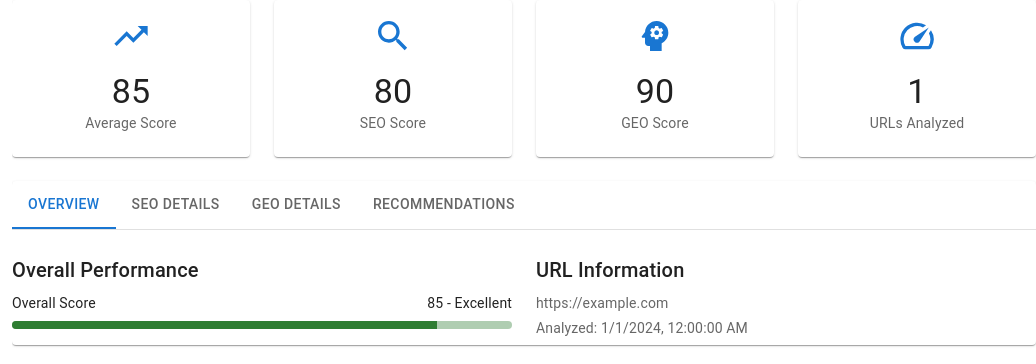
ResultsDashboard Component › displays recommendations with correct information
Note: Click Recommendations tab
Click the tab "Recommendations": point(444, 205) x1=357 y1=181 x2=531 y2=229
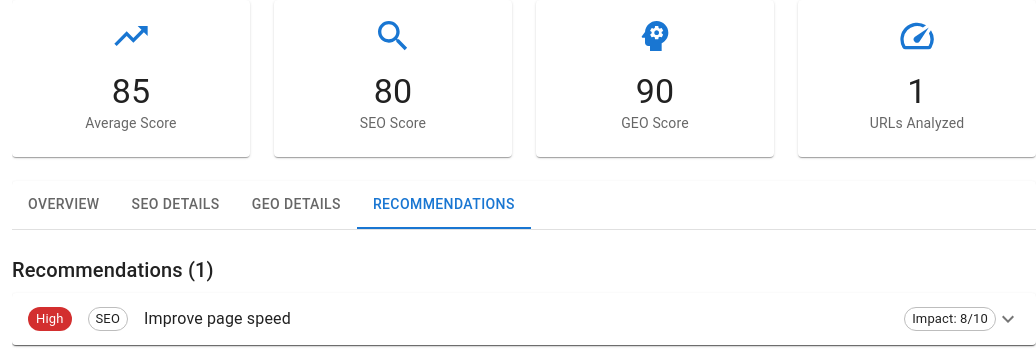
Check: the heading "Recommendations (1)" is shown, box x1=12 y1=258 x2=214 y2=282
Check: the heading "Improve page speed" is shown, box x1=144 y1=309 x2=291 y2=328
Check: the text "High" is shown, box x1=36 y1=311 x2=64 y2=326
